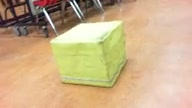cube: (48, 19, 128, 87)
